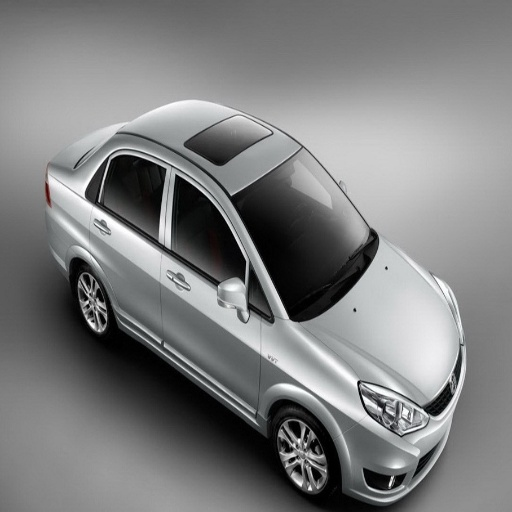front_bumper: (336, 392, 459, 505)
front_right_door: (161, 166, 272, 415)
front_right_light: (358, 383, 426, 434)
